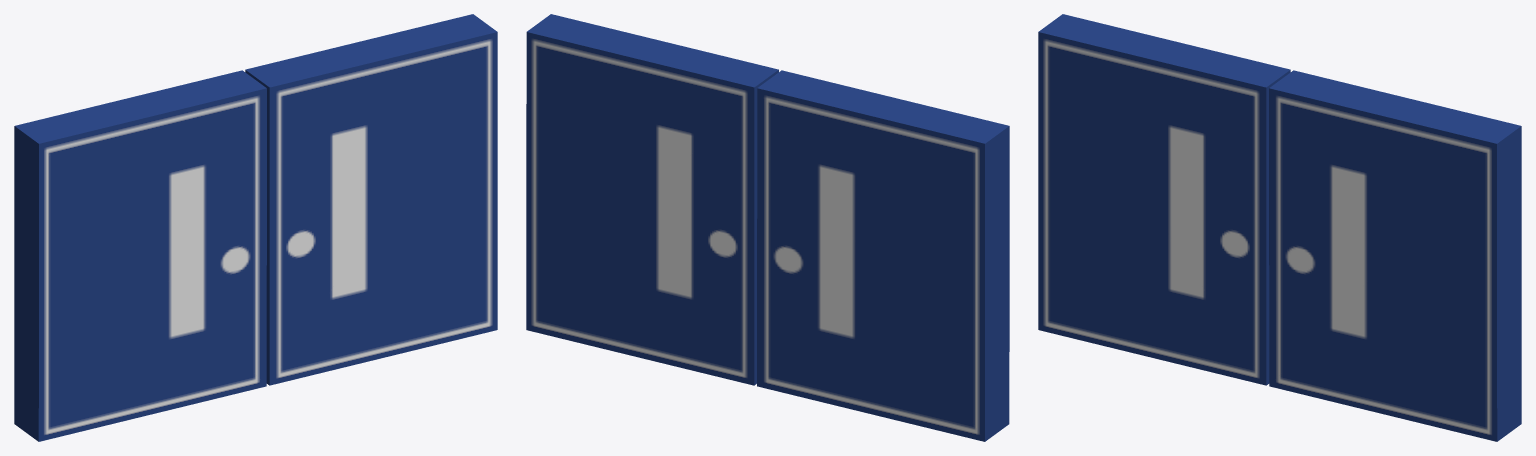
Rendered from BluePrintOfficeDoor.fbx.
The picture shows the model from 3 angles, left to right: view 1: azimuth 30°, elevation 25°; view 2: azimuth 150°, elevation 25°; view 3: azimuth 330°, elevation 25°; orthographic projection.
Parts seen in each view (by area): view 1: Cube.001; view 2: Cube.001; view 3: Cube.001.
Boxes of the visible parts, x1,y1,x2,y2 form: Cube.001: (14, 14, 497, 441); Cube.001: (526, 14, 1009, 441); Cube.001: (1038, 14, 1521, 441).
Bounding box in the file's own units: 3.22 × 2 × 0.3.
